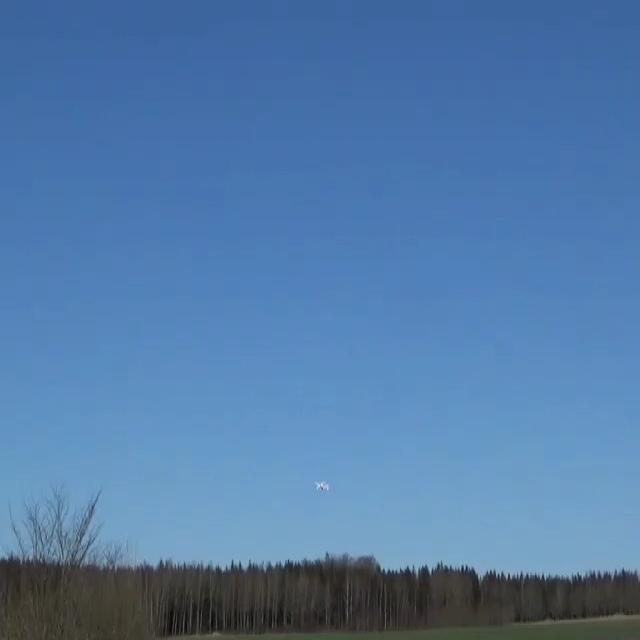drone: (314, 481, 330, 492)
